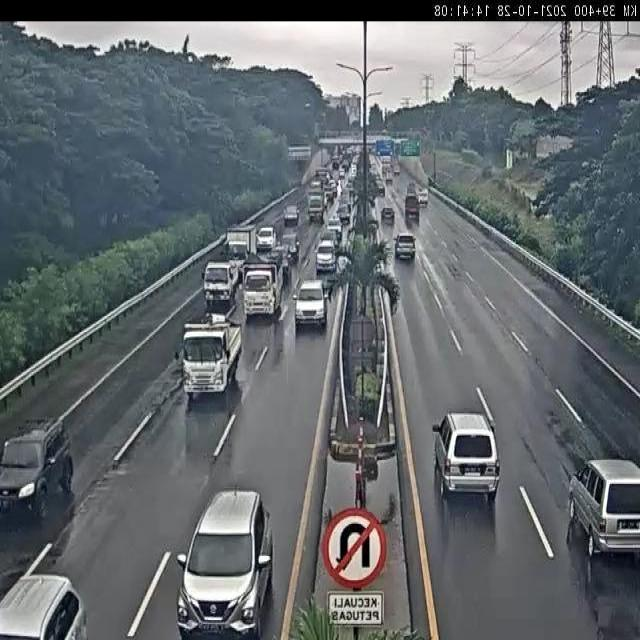Car: (173, 483, 273, 639), (1, 416, 74, 523), (567, 458, 639, 558), (434, 410, 501, 499), (0, 571, 88, 637), (294, 278, 328, 330), (280, 230, 302, 268), (315, 239, 337, 274), (394, 233, 416, 260), (256, 225, 277, 252), (326, 219, 342, 246), (283, 206, 299, 227), (338, 203, 350, 225), (381, 205, 395, 222), (417, 187, 428, 206), (406, 182, 416, 196), (393, 163, 400, 176)
Truck: (180, 312, 243, 394), (241, 256, 286, 321), (202, 259, 245, 312), (225, 226, 256, 262), (308, 194, 324, 223), (404, 194, 420, 223), (382, 160, 394, 184), (316, 168, 330, 186), (324, 184, 334, 206), (381, 155, 391, 170), (332, 159, 340, 171)
